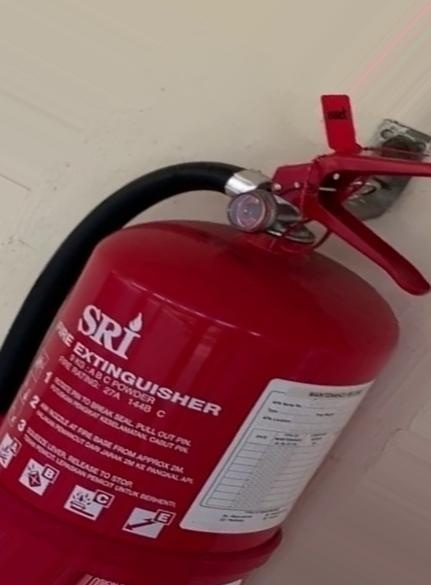fire_extinguisher: (0, 93, 431, 585)
